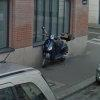Car: (2, 55, 56, 100)
